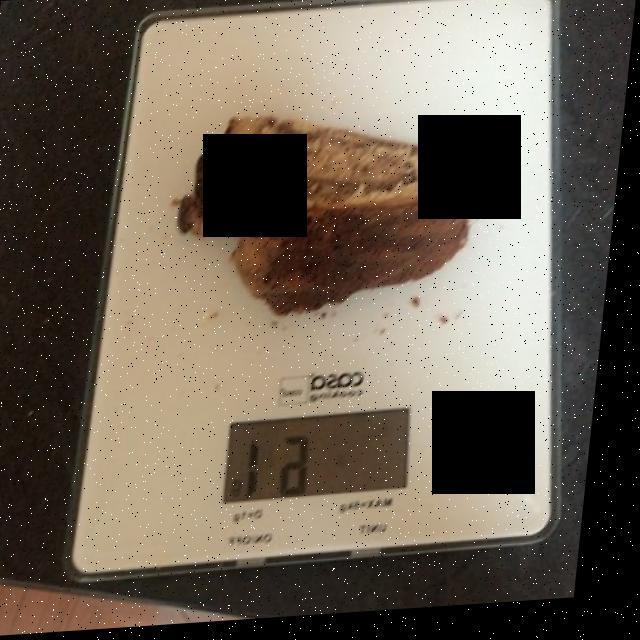cake: (184, 120, 480, 313)
